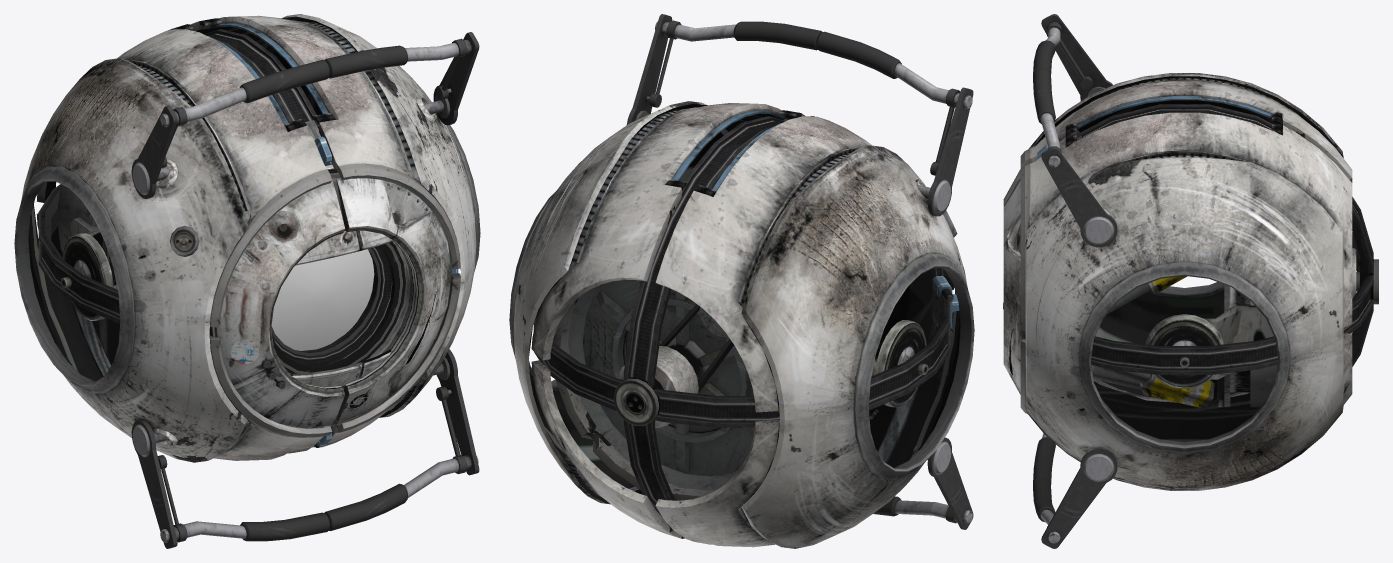
Rendered from Wheatley.fbx.
The picture shows the model from 3 angles, left to right: view 1: azimuth 30°, elevation 25°; view 2: azimuth 150°, elevation 25°; view 3: azimuth 270°, elevation 25°; orthographic projection. The views are drawn at different scales.
Visible parts, largest first — view 1: mesh0, mesh2; view 2: mesh0; view 3: mesh0.
Boxes of the visible parts, left/top/right/bottom form: mesh0: left=14, top=14, right=480, bottom=548; mesh2: left=271, top=249, right=374, bottom=350; mesh0: left=509, top=14, right=974, bottom=548; mesh0: left=1003, top=14, right=1378, bottom=548.
Bounding box in the file's own units: 30.49 × 37.3 × 29.78.
